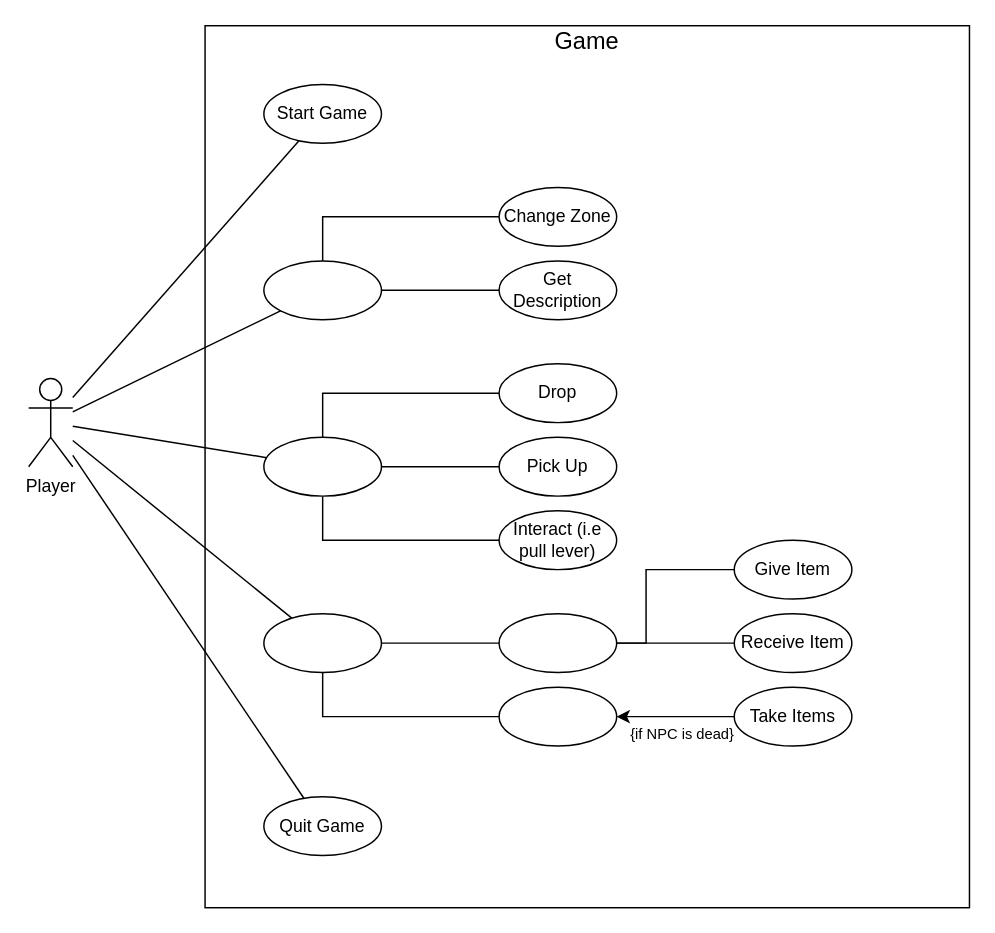
Image size: 995x933. Some labels were removed from this diagram. The centre of each missing label's shape, as x and y in pixels:
Attack: pixel 557 716
Interact with Item: pixel 321 466
Interact with NPC: pixel 321 642
Navigate Zones: pixel 321 289
Talk: pixel 557 642
